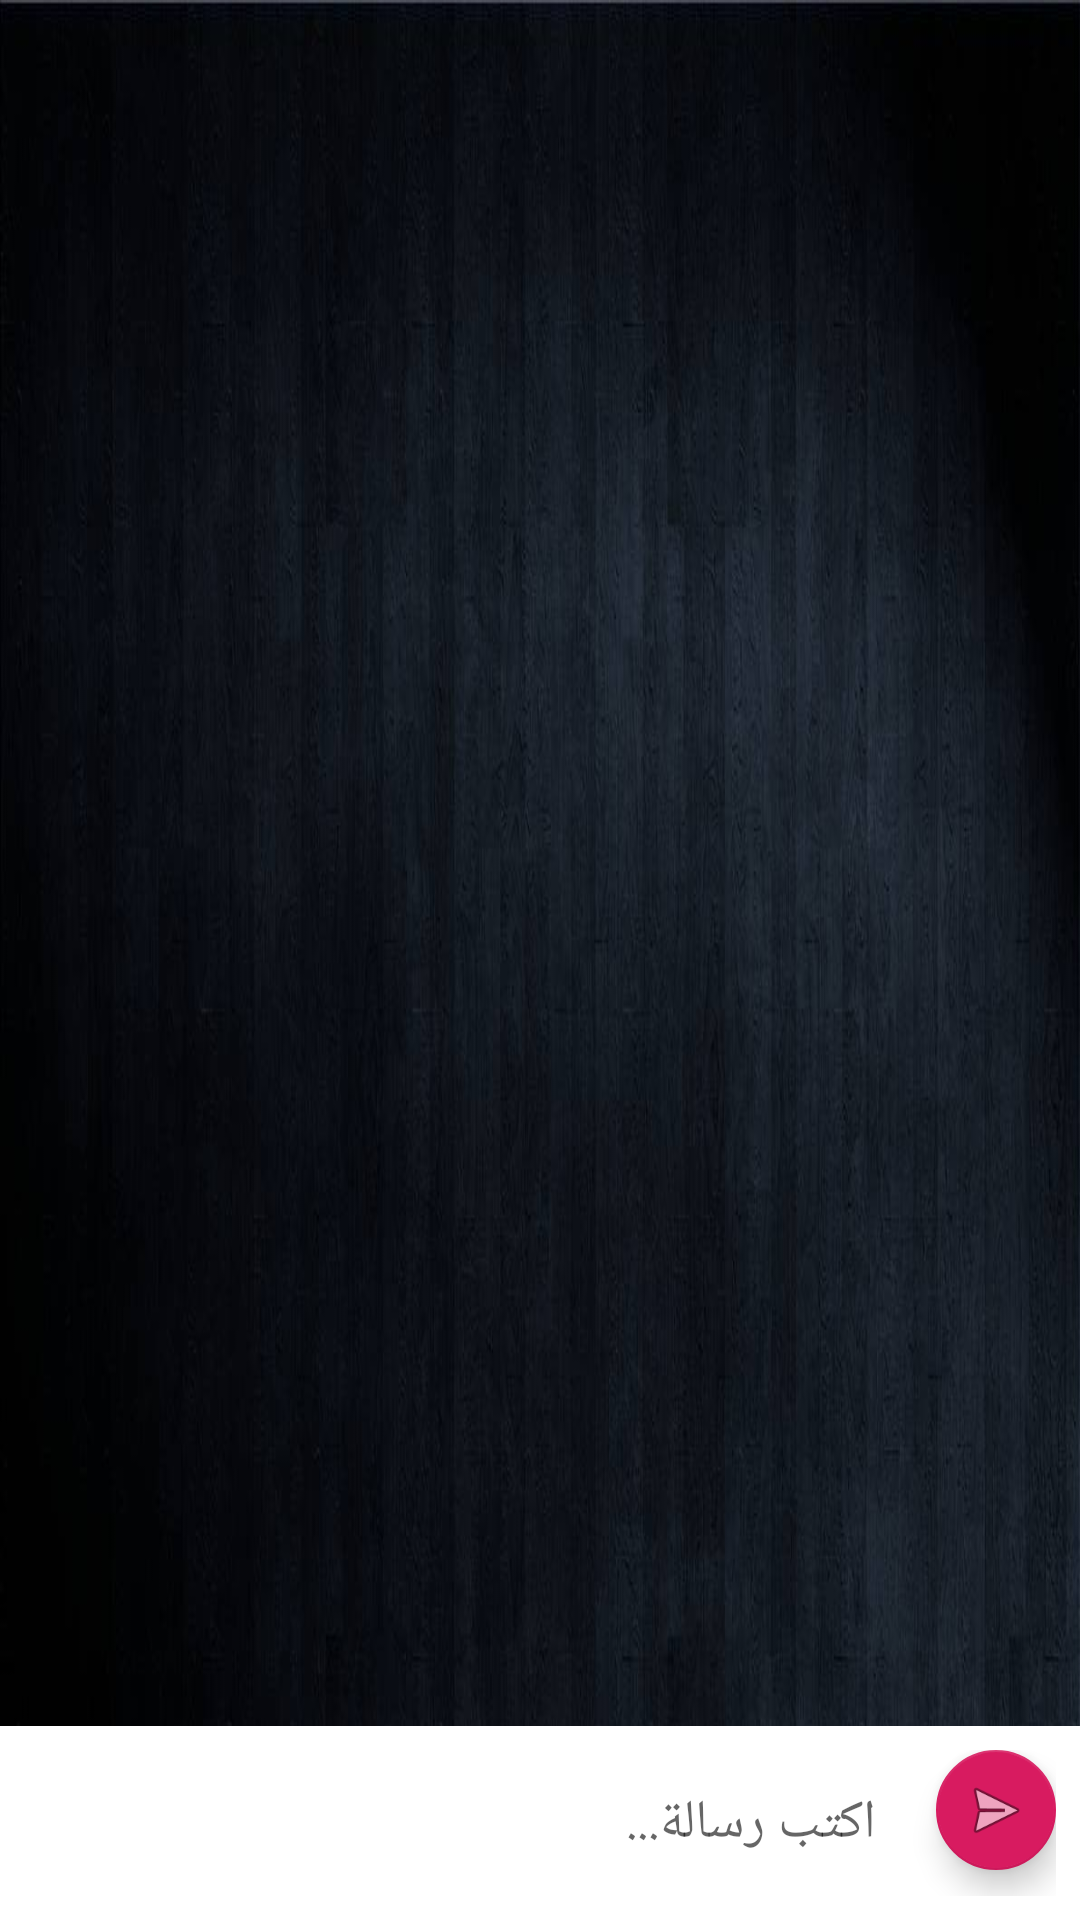

Screen size 1080 x 1920. Icon name, then its box in pixels as bbox=[x1, y1, x2, y2]:
send: bbox=[936, 1750, 1056, 1870]
